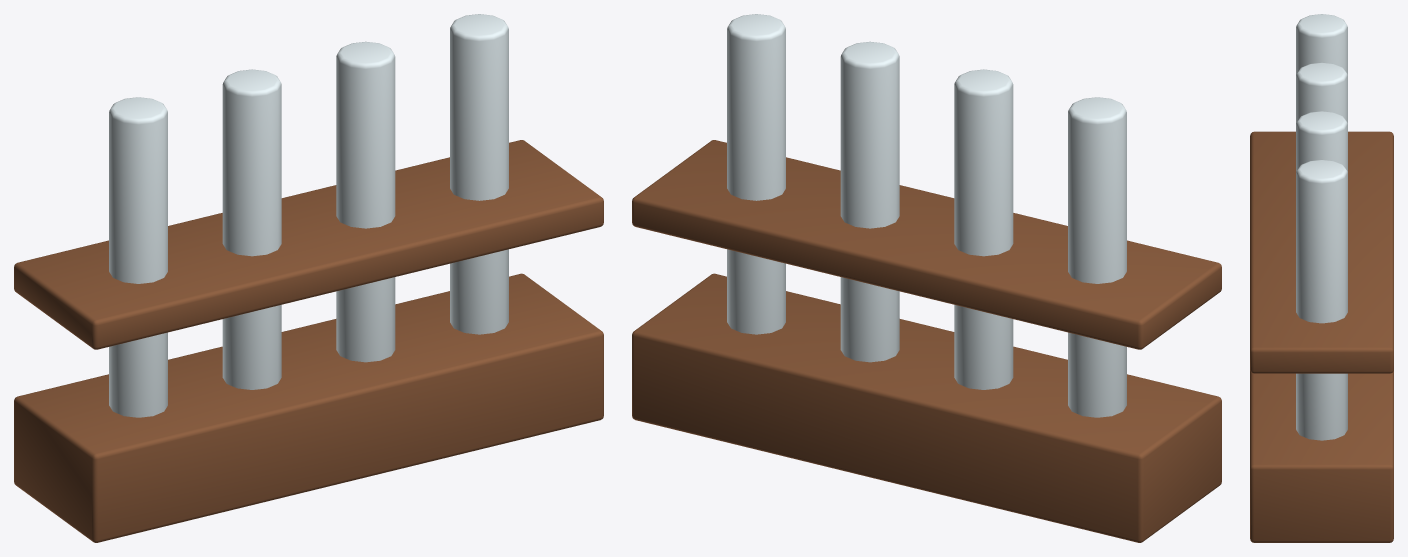
File: tubos.glb
3 views of the same model, side by side, from view 1: azimuth 30°, elevation 25°; view 2: azimuth 150°, elevation 25°; view 3: azimuth 270°, elevation 25° (orthographic). The views are drawn at different scales.
Parts seen in each view (by area): view 1: tubos; view 2: tubos; view 3: tubos.
Part boxes in pixels (<box>): tubos: <box>14,14,603,542</box>; tubos: <box>632,14,1221,542</box>; tubos: <box>1250,14,1393,542</box>.
Bounding box in the file's own units: 1.3 × 0.936 × 0.36.
